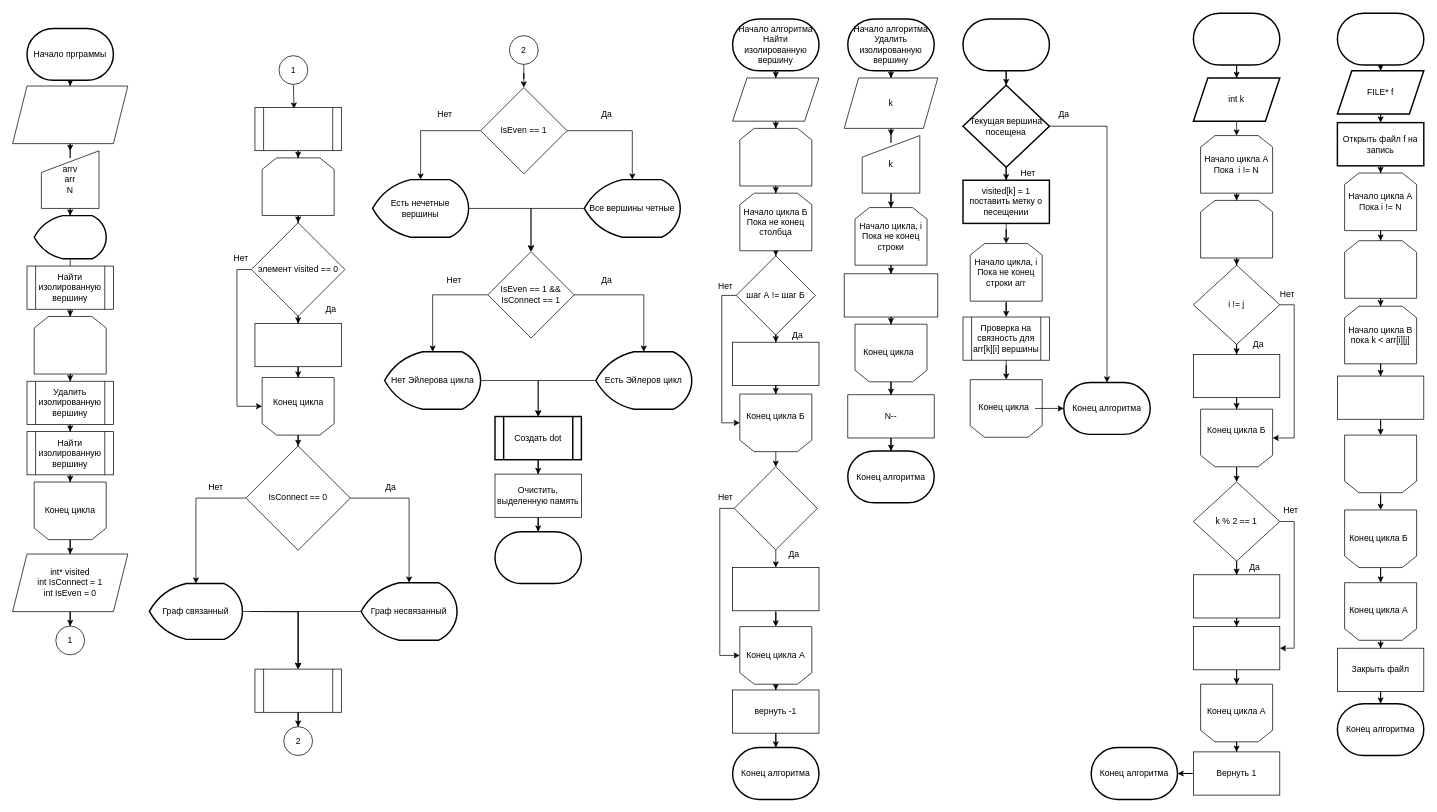
This 1437x812 diagram has some shape labels left out. The box of each missing label's shape, as (x1, y1, x2, y2) in pixels:
arr[i][k] = arr[(N- 1 )][i] arr[k][i] = arr[(N- 1 )][i]: (843, 273, 938, 317)
arrv: (33, 215, 107, 259)
find: (732, 77, 819, 121)
find += arr[i][j]: (732, 341, 819, 385)
find == 0: (733, 466, 817, 550)
int** arrv//матрица смежности int** arr//список ребер int N//число вершин: (12, 85, 128, 144)
IsConnect = 0: (254, 323, 341, 367)
k != arr[i][j]: (1193, 354, 1280, 398)
k = 0: (1193, 626, 1280, 670)
Вернуть 0: (1193, 574, 1280, 618)
вернуть шаг А find = 0: (732, 567, 819, 611)
записать в файл строку: i--j;: (1337, 375, 1424, 419)
Конец программы: (494, 531, 582, 584)
Конец цикла В: (1344, 434, 1417, 493)
Начало алгоритма Проверка кратности ребер: (1192, 12, 1280, 65)
Начало алгоритма Проверка на связность: (962, 18, 1050, 71)
Начало алгоритма Создать dot: (1336, 12, 1424, 65)
Начало цикла А Пока не конец строки: (739, 128, 812, 186)
Начало цикла Б начиная с i пока j != N: (1344, 240, 1417, 298)
Начало цикла Б Пока j != N: (1200, 200, 1273, 258)
Начало цикла Пока есть изолированные вершины: (33, 316, 106, 374)
Начало цикла пока не конец visited: (261, 157, 334, 215)
Проверка кратности ребер: (254, 668, 341, 712)
Проверка на связность: (254, 107, 341, 151)
